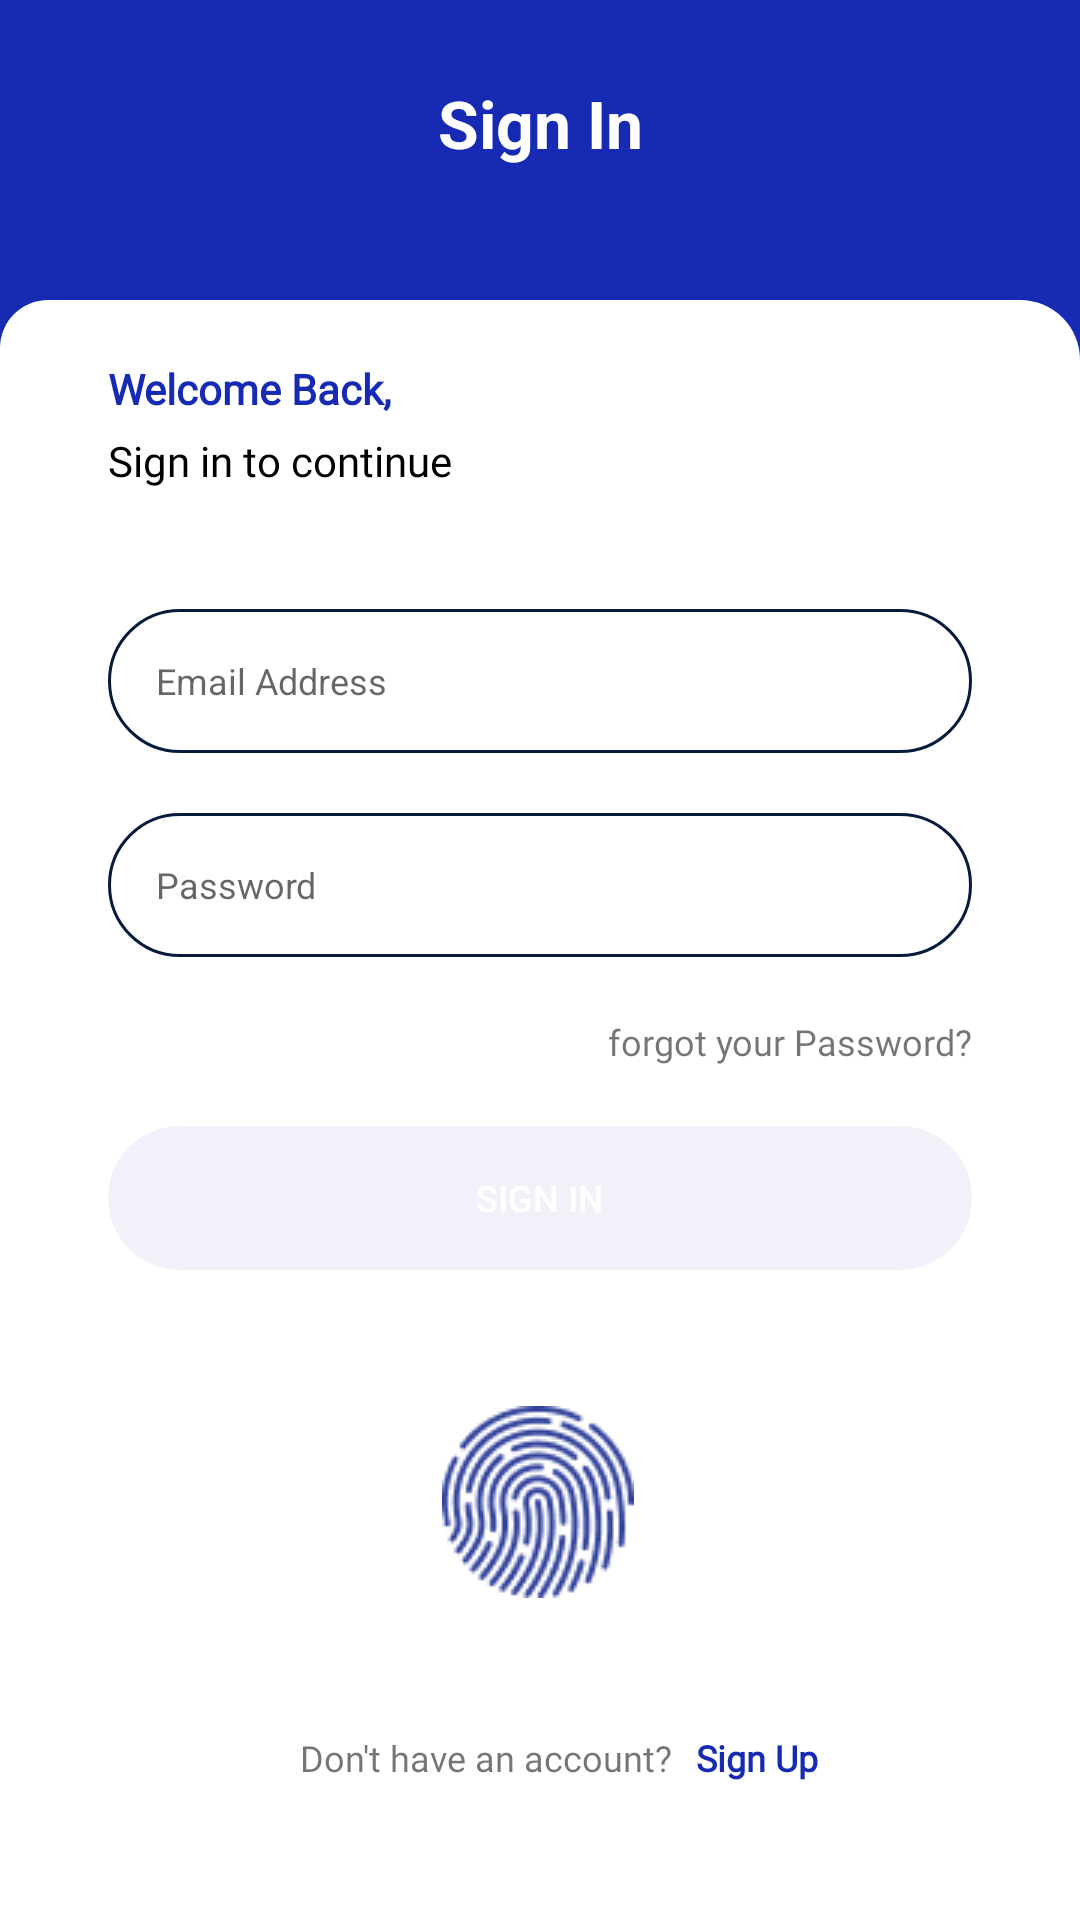

Named icons in this screenshot (1080 x 1920) and their centers, point (x, y):
fingerprint: point (538, 1502)
